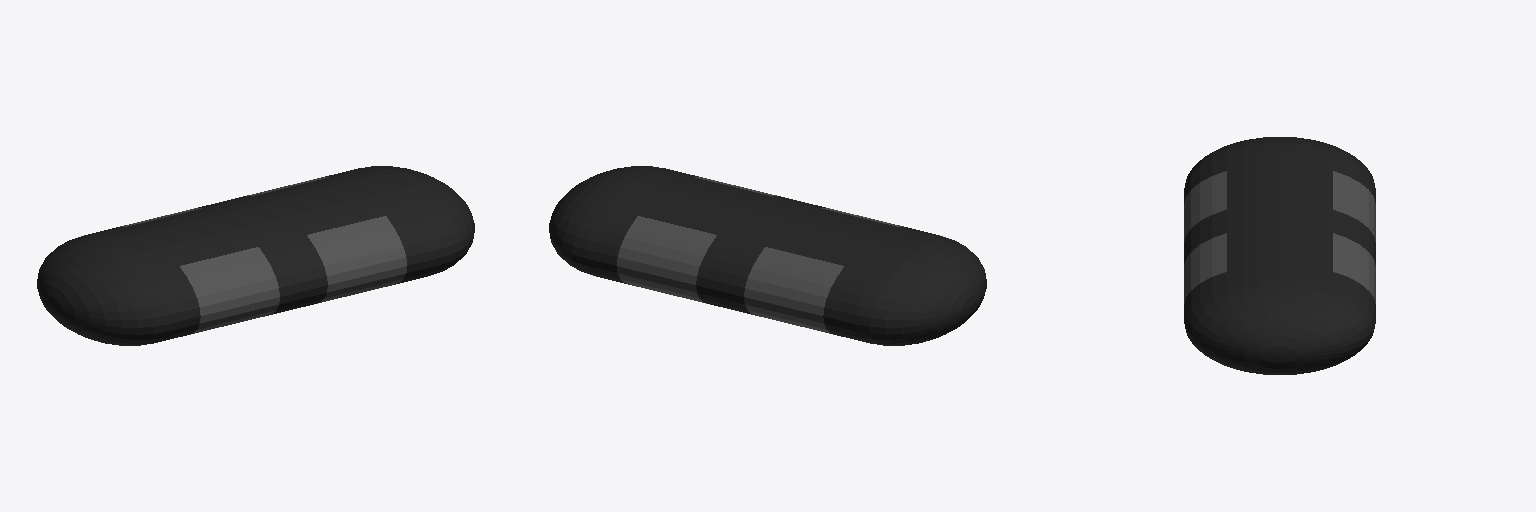
The model's file is drone.obj.
3 renders of one model, left to right at view 1: azimuth 30°, elevation 25°; view 2: azimuth 150°, elevation 25°; view 3: azimuth 270°, elevation 25°, orthographic.
Parts seen in each view (by area): view 1: drone_body, doors_upper, doors_lower; view 2: drone_body, doors_upper, doors_lower; view 3: drone_body, doors_upper.
Part boxes in pixels (left/top/right/bottom): drone_body: left=37, top=166, right=474, bottom=345; doors_upper: left=120, top=176, right=406, bottom=315; doors_lower: left=190, top=266, right=406, bottom=334; drone_body: left=549, top=166, right=986, bottom=345; doors_upper: left=617, top=176, right=903, bottom=315; doors_lower: left=617, top=266, right=833, bottom=334; drone_body: left=1184, top=137, right=1375, bottom=374; doors_upper: left=1184, top=171, right=1375, bottom=303.
Bounding box in the file's own units: 4.91 × 0.9573 × 2.